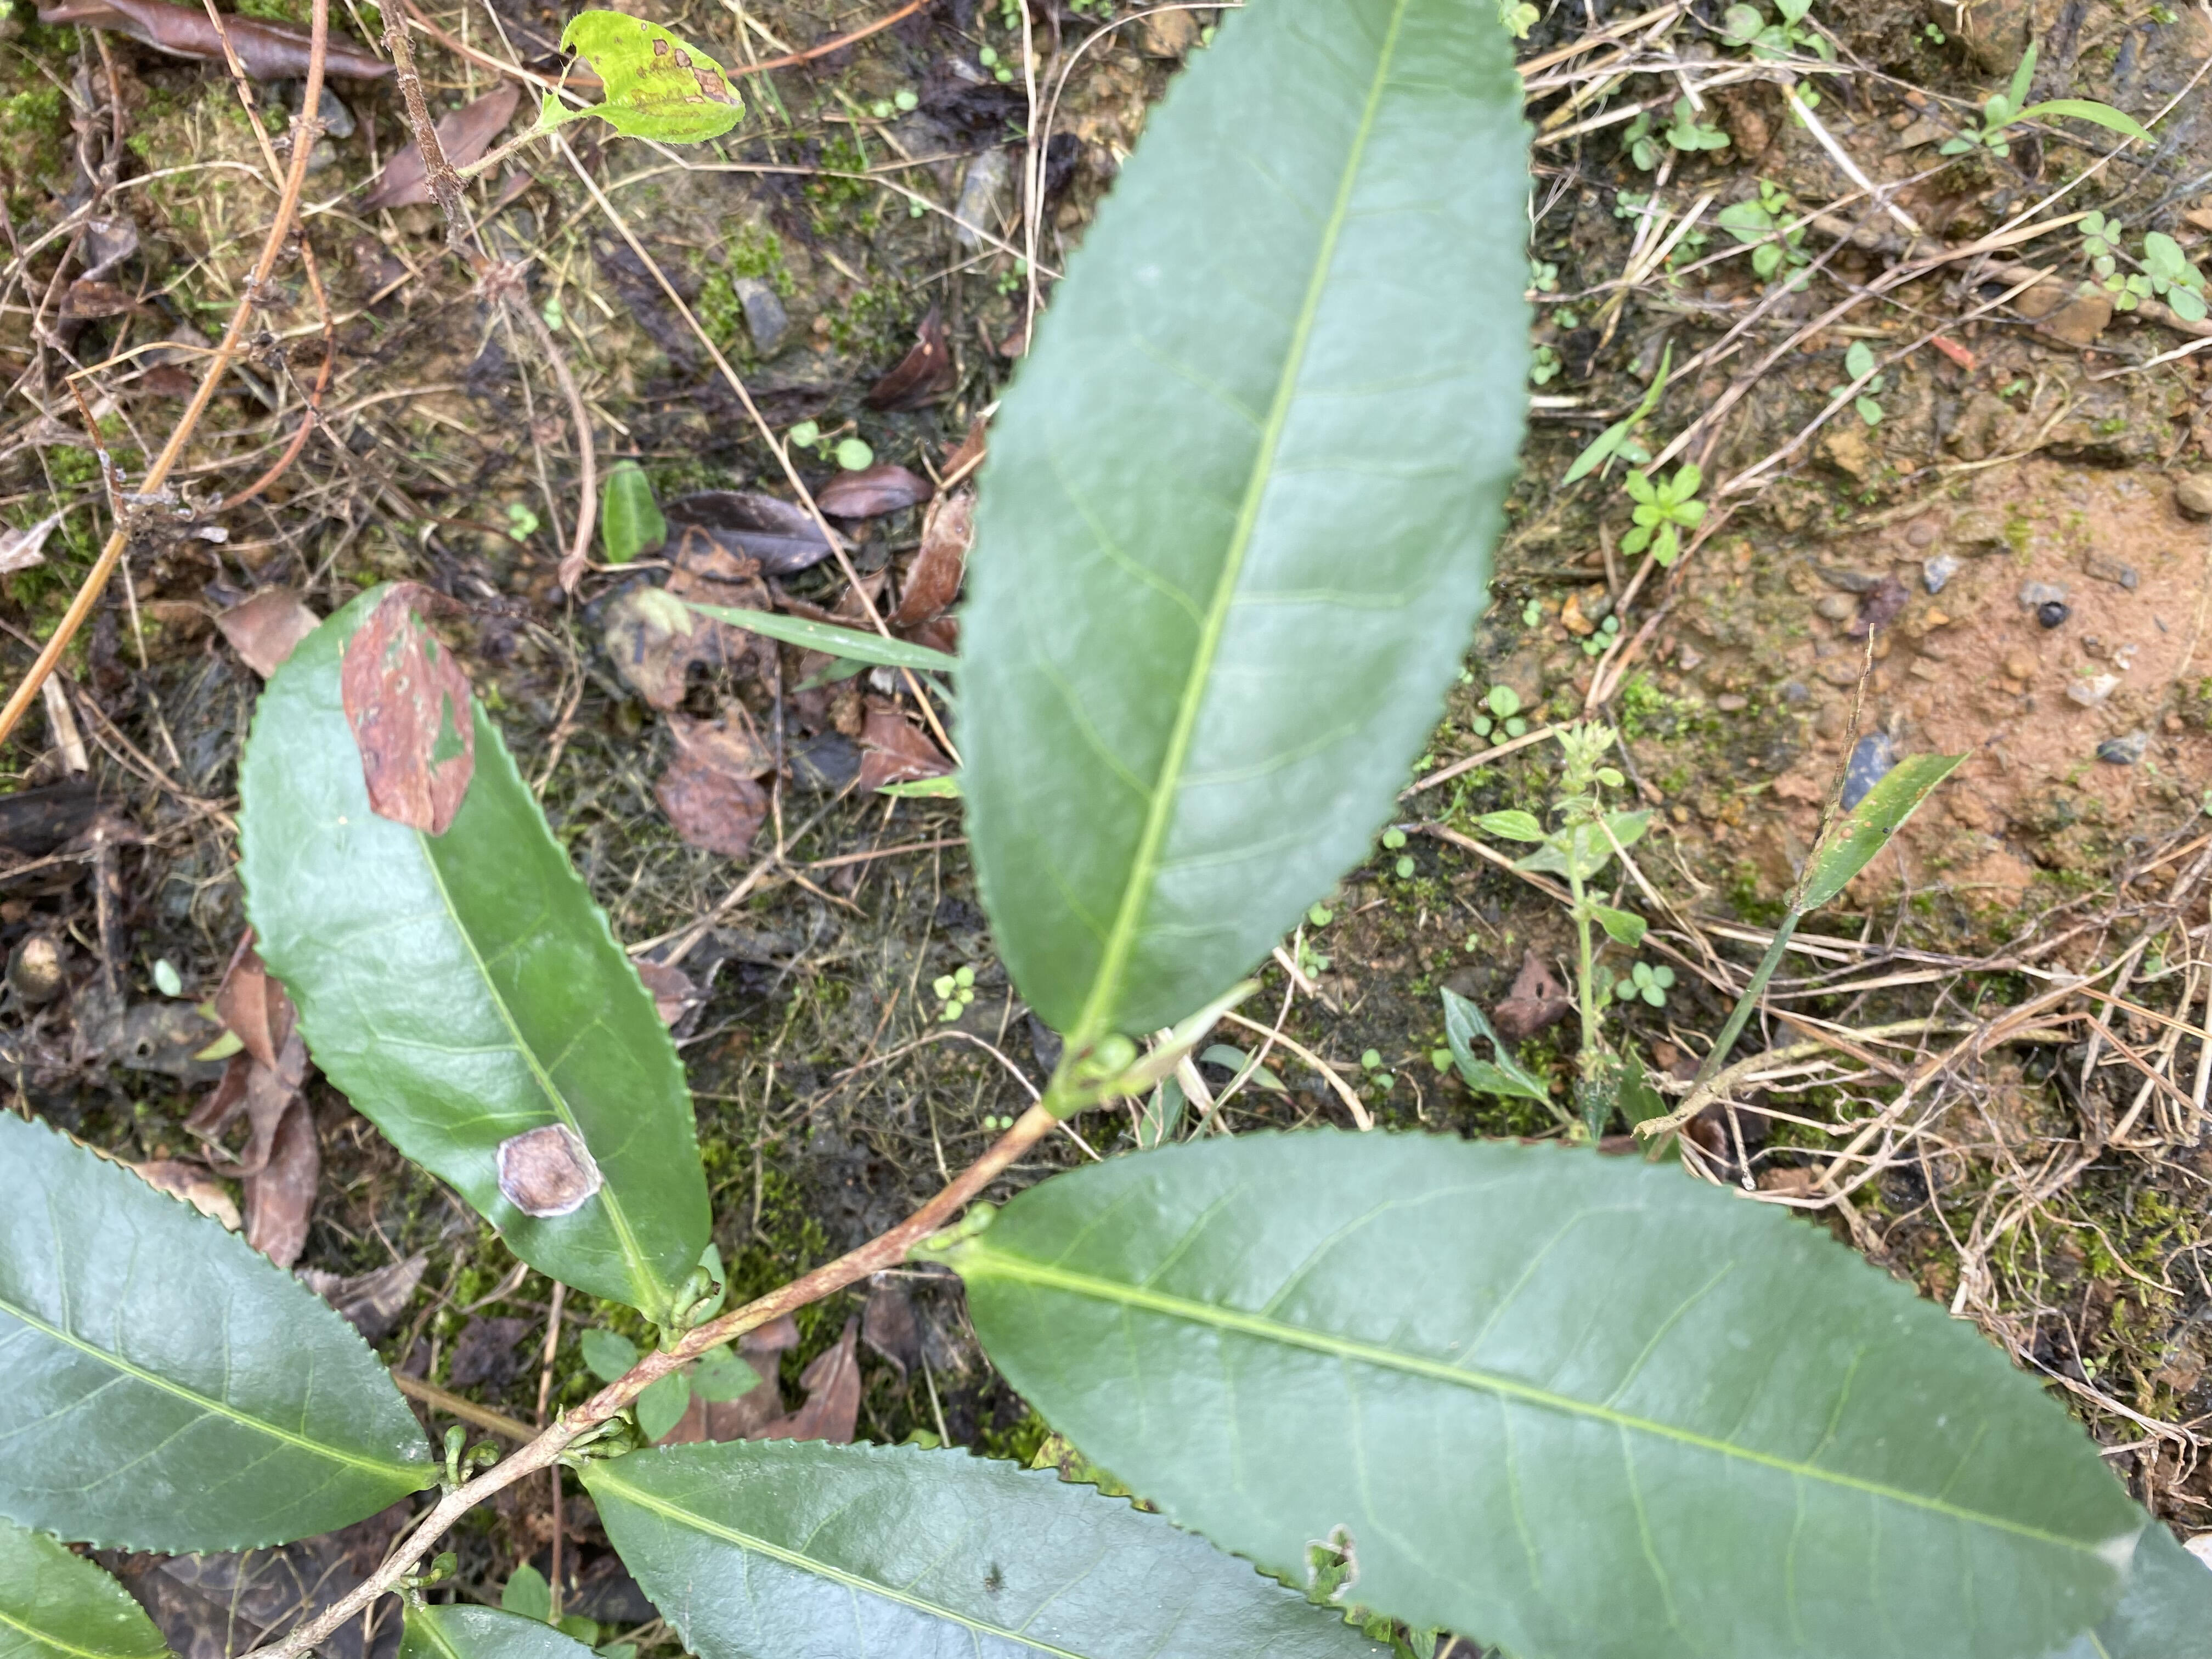chihuo_low: (963, 1126, 2161, 1656)
healthy: (949, 3, 1536, 1053), (5, 1108, 437, 1558)
tanju_high: (232, 586, 716, 1323)
